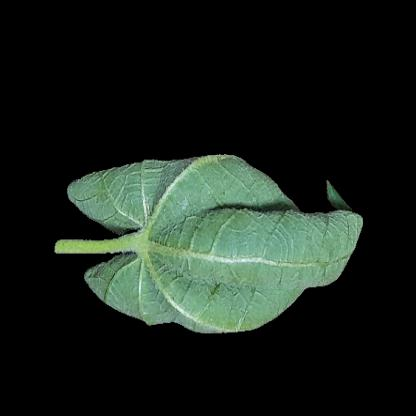curl_stage2: (154, 201, 269, 321), (272, 215, 339, 282), (94, 174, 178, 227)
